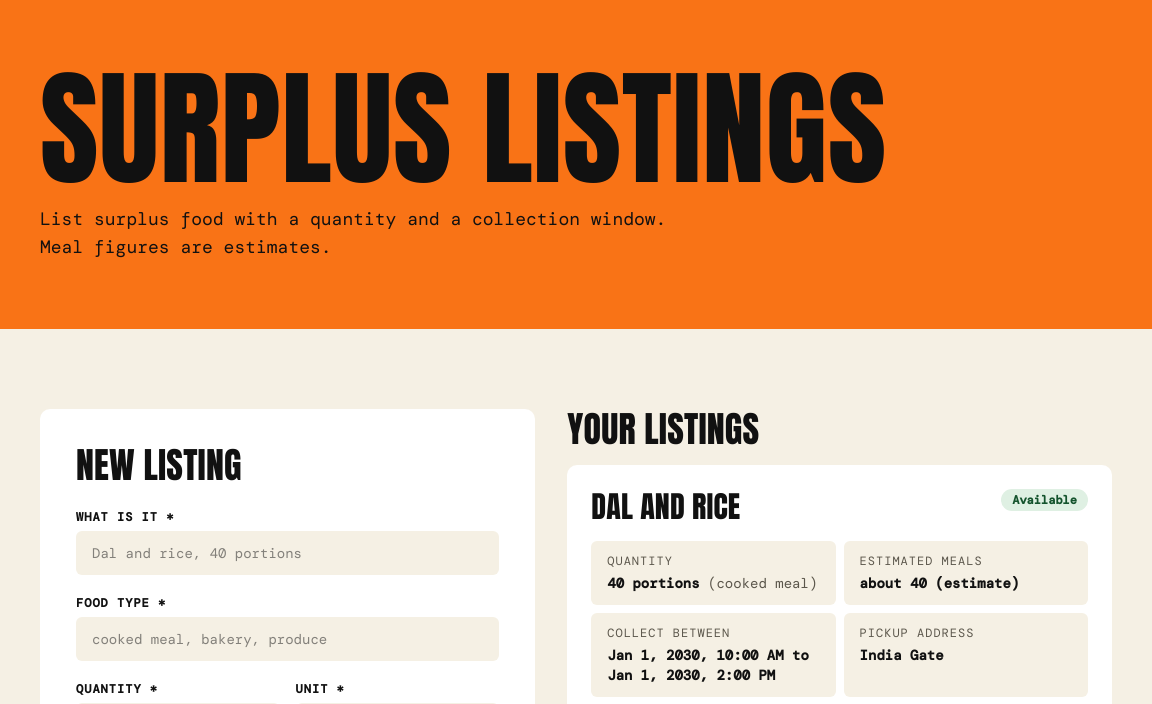
Test case: creating a listing › creates a listing and shows it with an estimate notice
Type "Fresh bread" into the field labelled "What is it *" at (288, 553), box [76, 531, 499, 575]
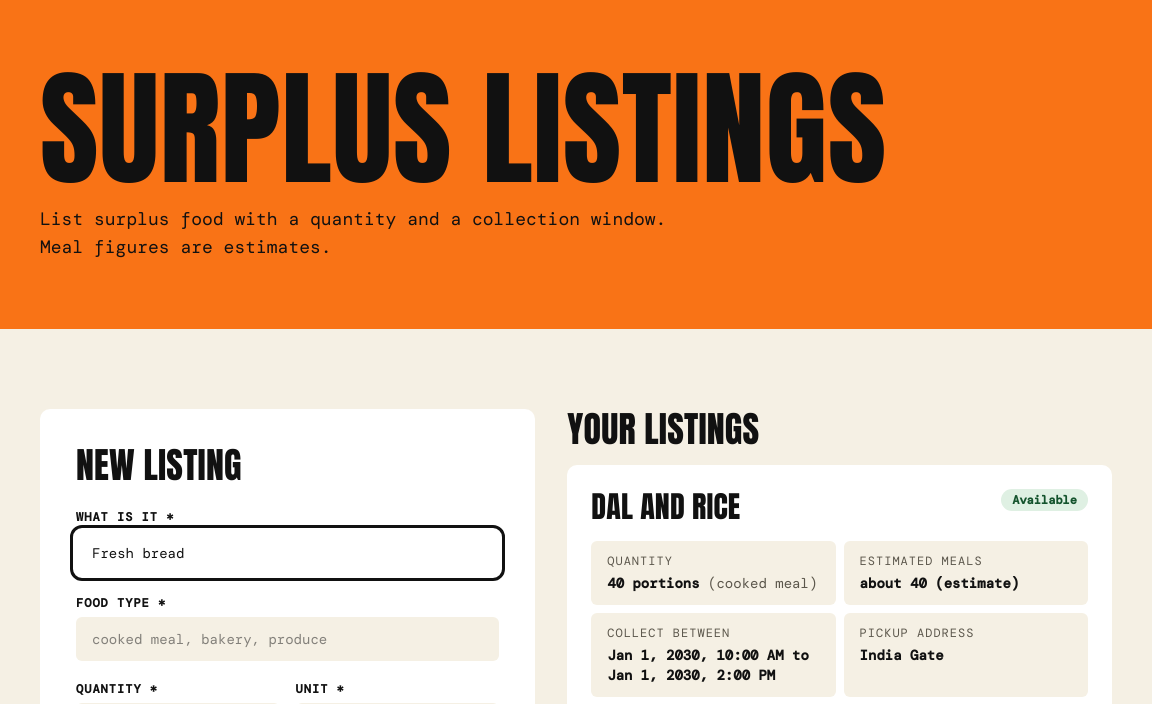
Type "bakery" into the field labelled "Food type *" at (288, 639), box [76, 617, 499, 661]
(page scrolled)
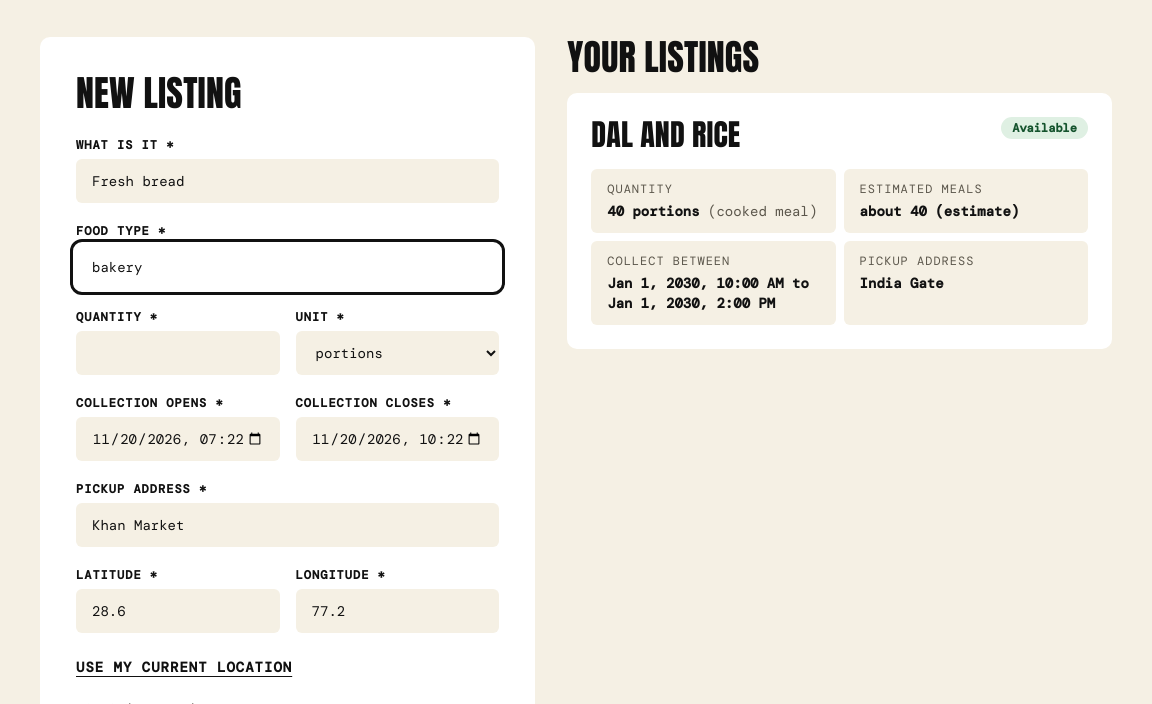
Type "12" into the number field labelled "Quantity *" at (178, 353), box [76, 331, 280, 375]
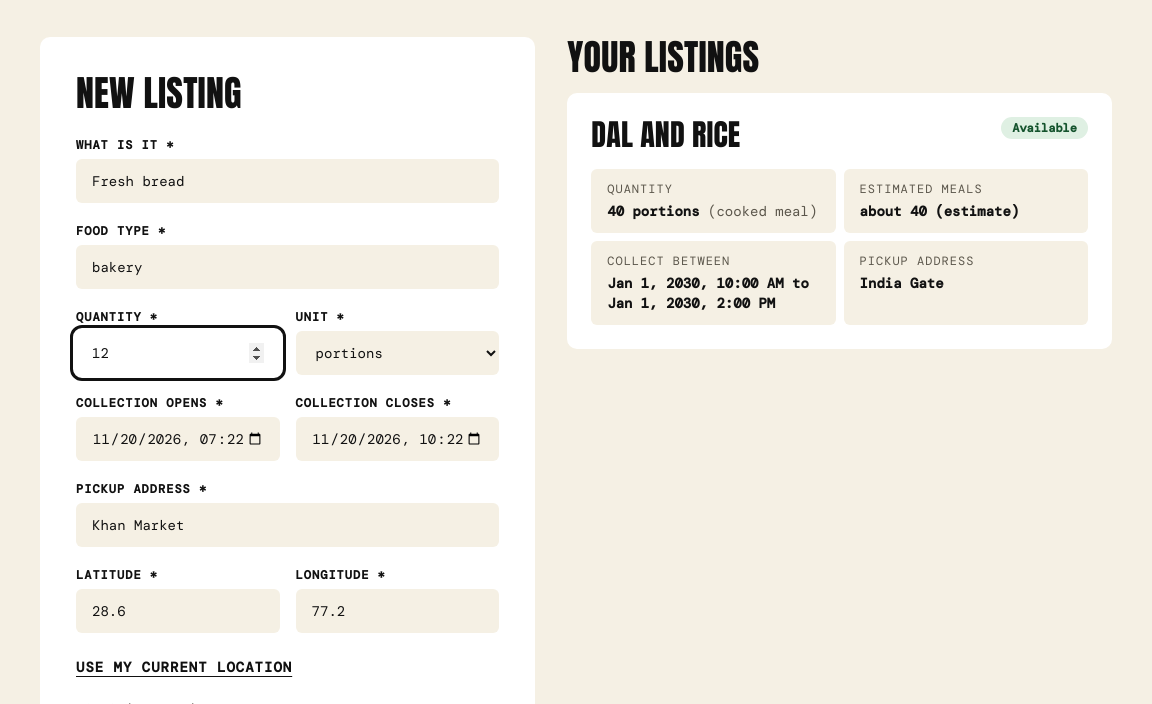
Select "kg" in the dropdown labelled "Unit *" at (397, 353), box [296, 331, 499, 375]
(page scrolled)
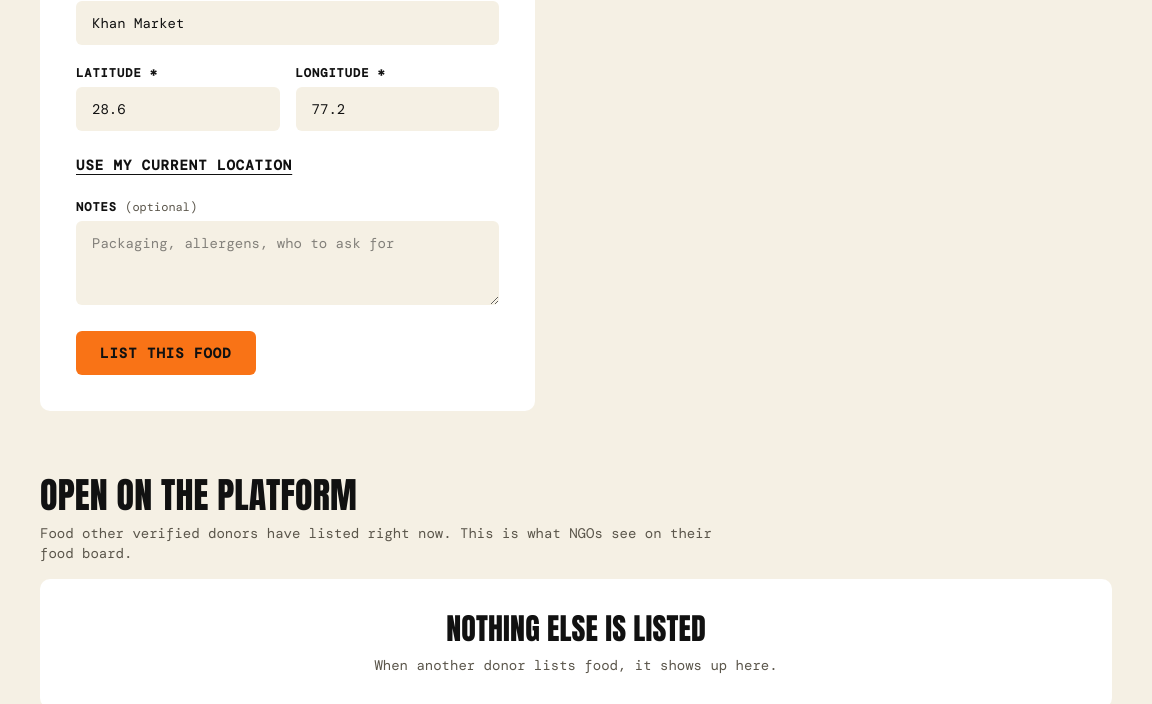
Click the button "List this food" at (166, 353), box [76, 331, 256, 375]
(page scrolled)
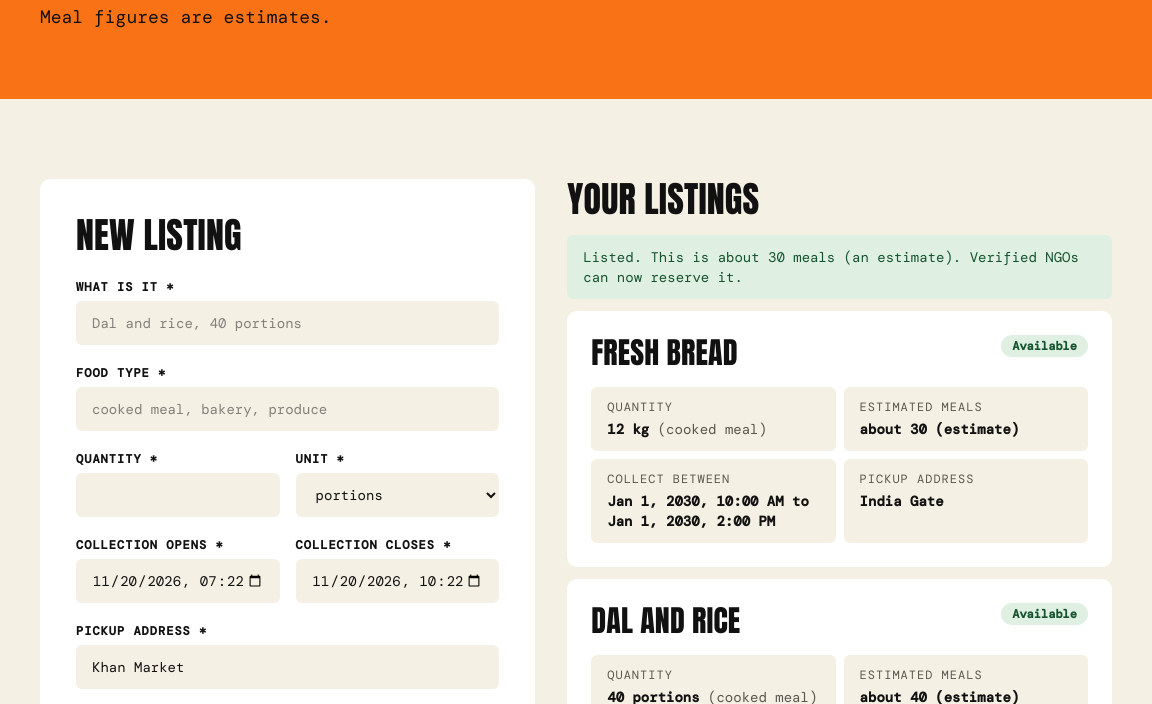
Result: the message shows "about 30 meals (an estimate)" at [583, 248, 1079, 286]
Result: the heading "Fresh bread" is shown at [591, 335, 738, 371]
